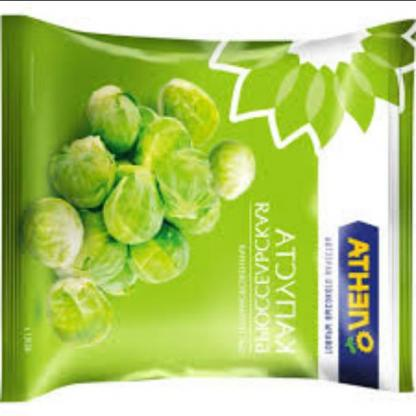brus capusta: (20, 69, 266, 343)
